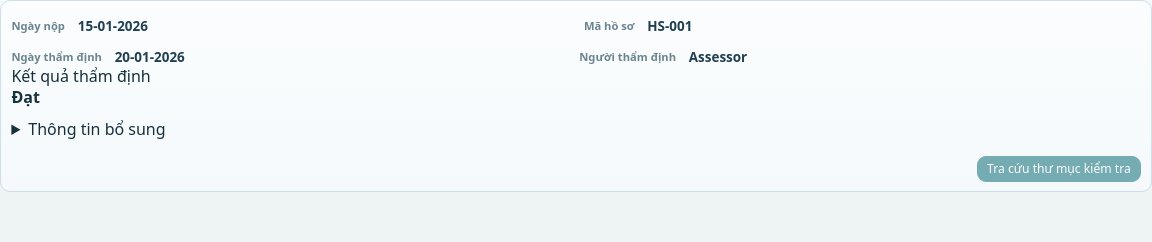
Test: registration presentation preserves existing editor owners › retains application draft on 403 without retrying and allows keyboard cancel
The image size is (1152, 242).
Press F2 in the button with aria-label "Sửa Mã hồ sơ", box [647,17,692,35]
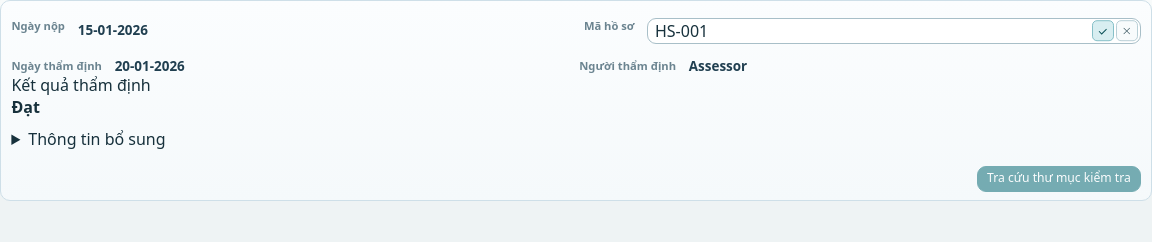
Replace the text in the field named "Mã hồ sơ" with "draft": (894, 31) [647,18,1141,44]
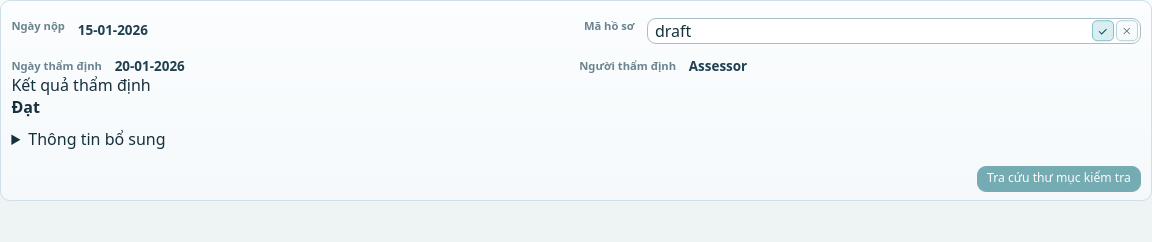
Press Enter in the field named "Mã hồ sơ", box [647,18,1141,44]
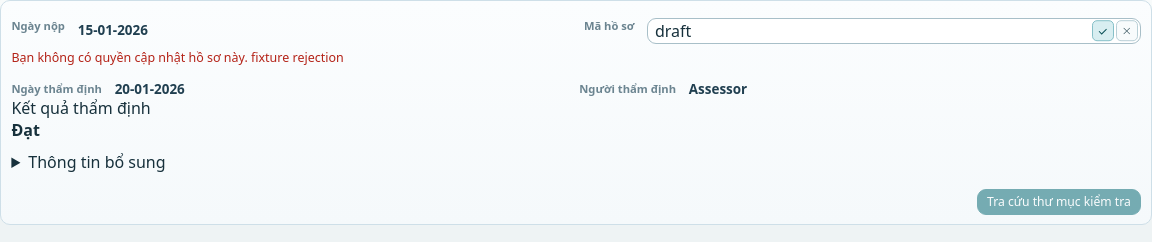
Check: the message shows "không có quyền", box [11,49,344,66]
Press Escape in the field named "Mã hồ sơ", box [647,18,1141,44]
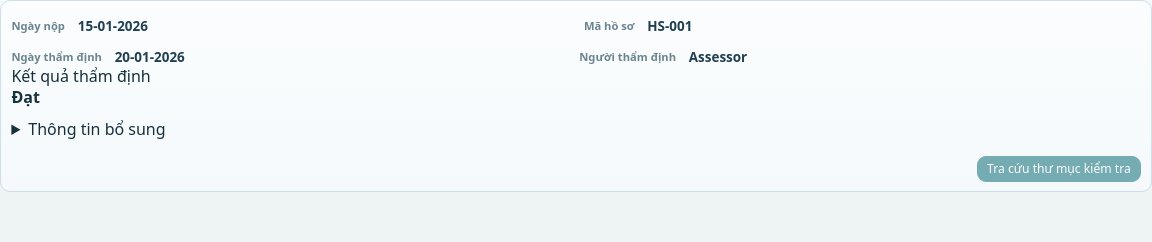
Check: the button with aria-label "Sửa Mã hồ sơ" reads "HS-001", box [647,17,692,35]
